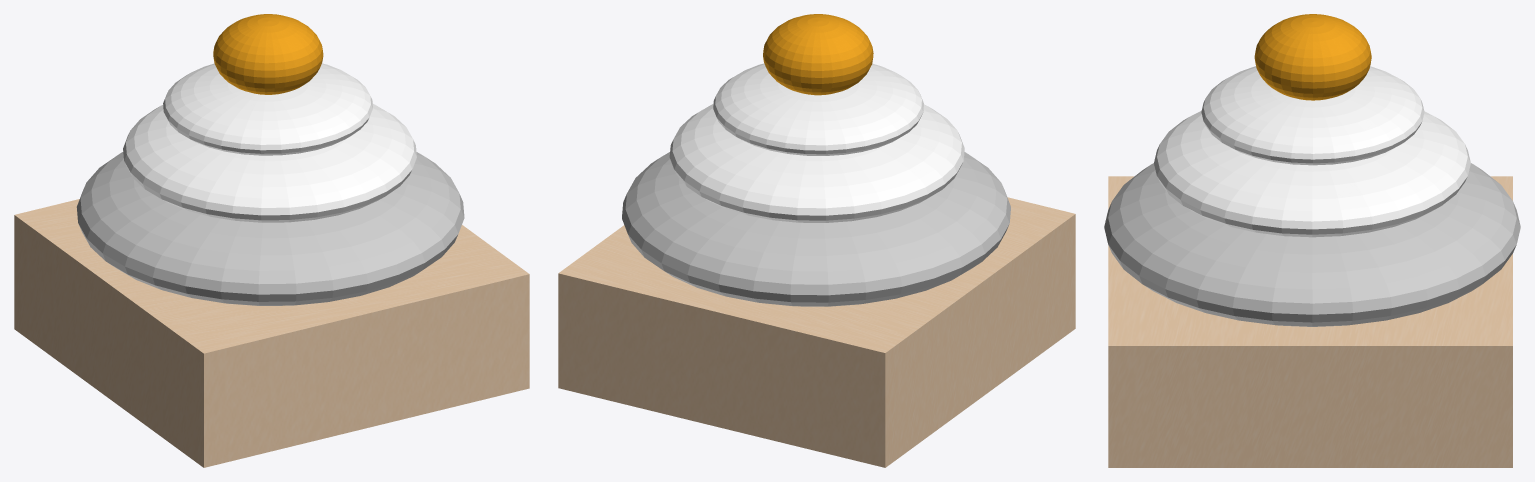
File: RiceCake.dae
3 views of the same model, side by side, from view 1: azimuth 30°, elevation 25°; view 2: azimuth 150°, elevation 25°; view 3: azimuth 270°, elevation 25° (orthographic). The views are drawn at different scales.
Visible parts, largest first — view 1: Cube, Sphere, Sphere_001, Sphere_002, Sphere_003; view 2: Cube, Sphere, Sphere_001, Sphere_002, Sphere_003; view 3: Cube, Sphere, Sphere_001, Sphere_002, Sphere_003.
Boxes of the visible parts, bbox=[...] form: Cube: bbox=[14, 199, 529, 467]; Sphere: bbox=[76, 152, 464, 305]; Sphere_001: bbox=[123, 103, 416, 222]; Sphere_002: bbox=[163, 63, 372, 155]; Sphere_003: bbox=[213, 14, 323, 94]; Cube: bbox=[558, 197, 1075, 467]; Sphere: bbox=[622, 152, 1010, 306]; Sphere_001: bbox=[669, 103, 964, 222]; Sphere_002: bbox=[713, 63, 923, 155]; Sphere_003: bbox=[763, 14, 873, 95]; Cube: bbox=[1108, 176, 1512, 467]; Sphere: bbox=[1104, 163, 1520, 326]; Sphere_001: bbox=[1154, 111, 1470, 237]; Sphere_002: bbox=[1201, 66, 1424, 165]; Sphere_003: bbox=[1254, 14, 1371, 100].
Size of the model in its own units: 6.15 by 6.19 by 5.9.
Materials: 5 (4 with a texture image).
